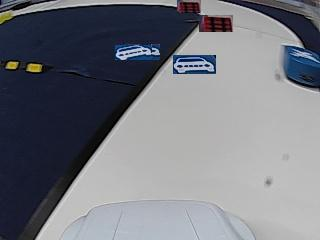prop: (284, 45, 319, 87)
